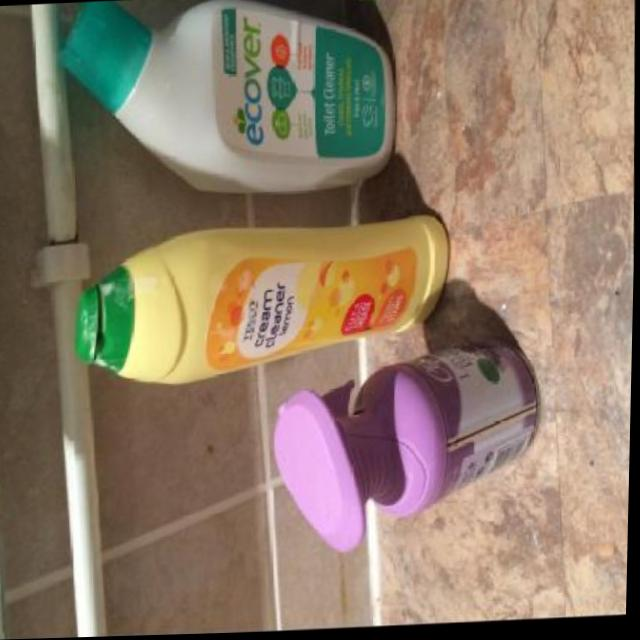metal: (265, 337, 545, 561)
plastic: (54, 0, 400, 209), (67, 211, 455, 395)
